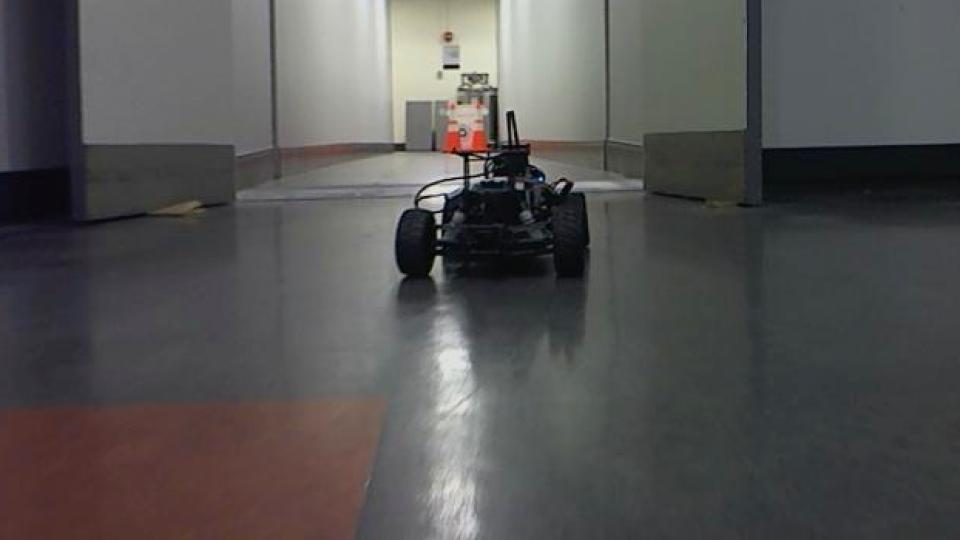car: (392, 108, 594, 282)
